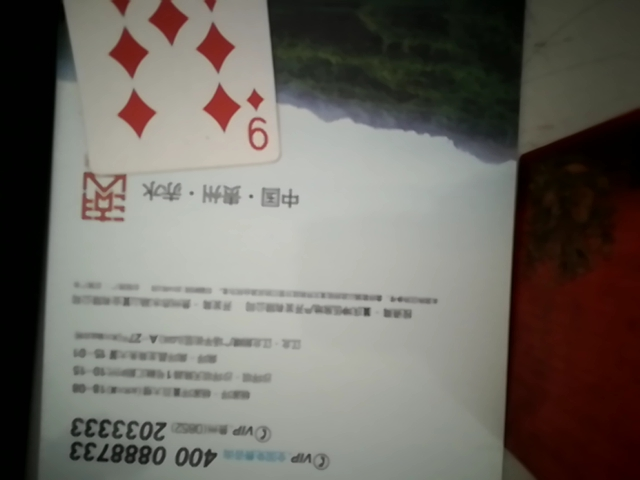fk 9: (61, 0, 280, 186)
